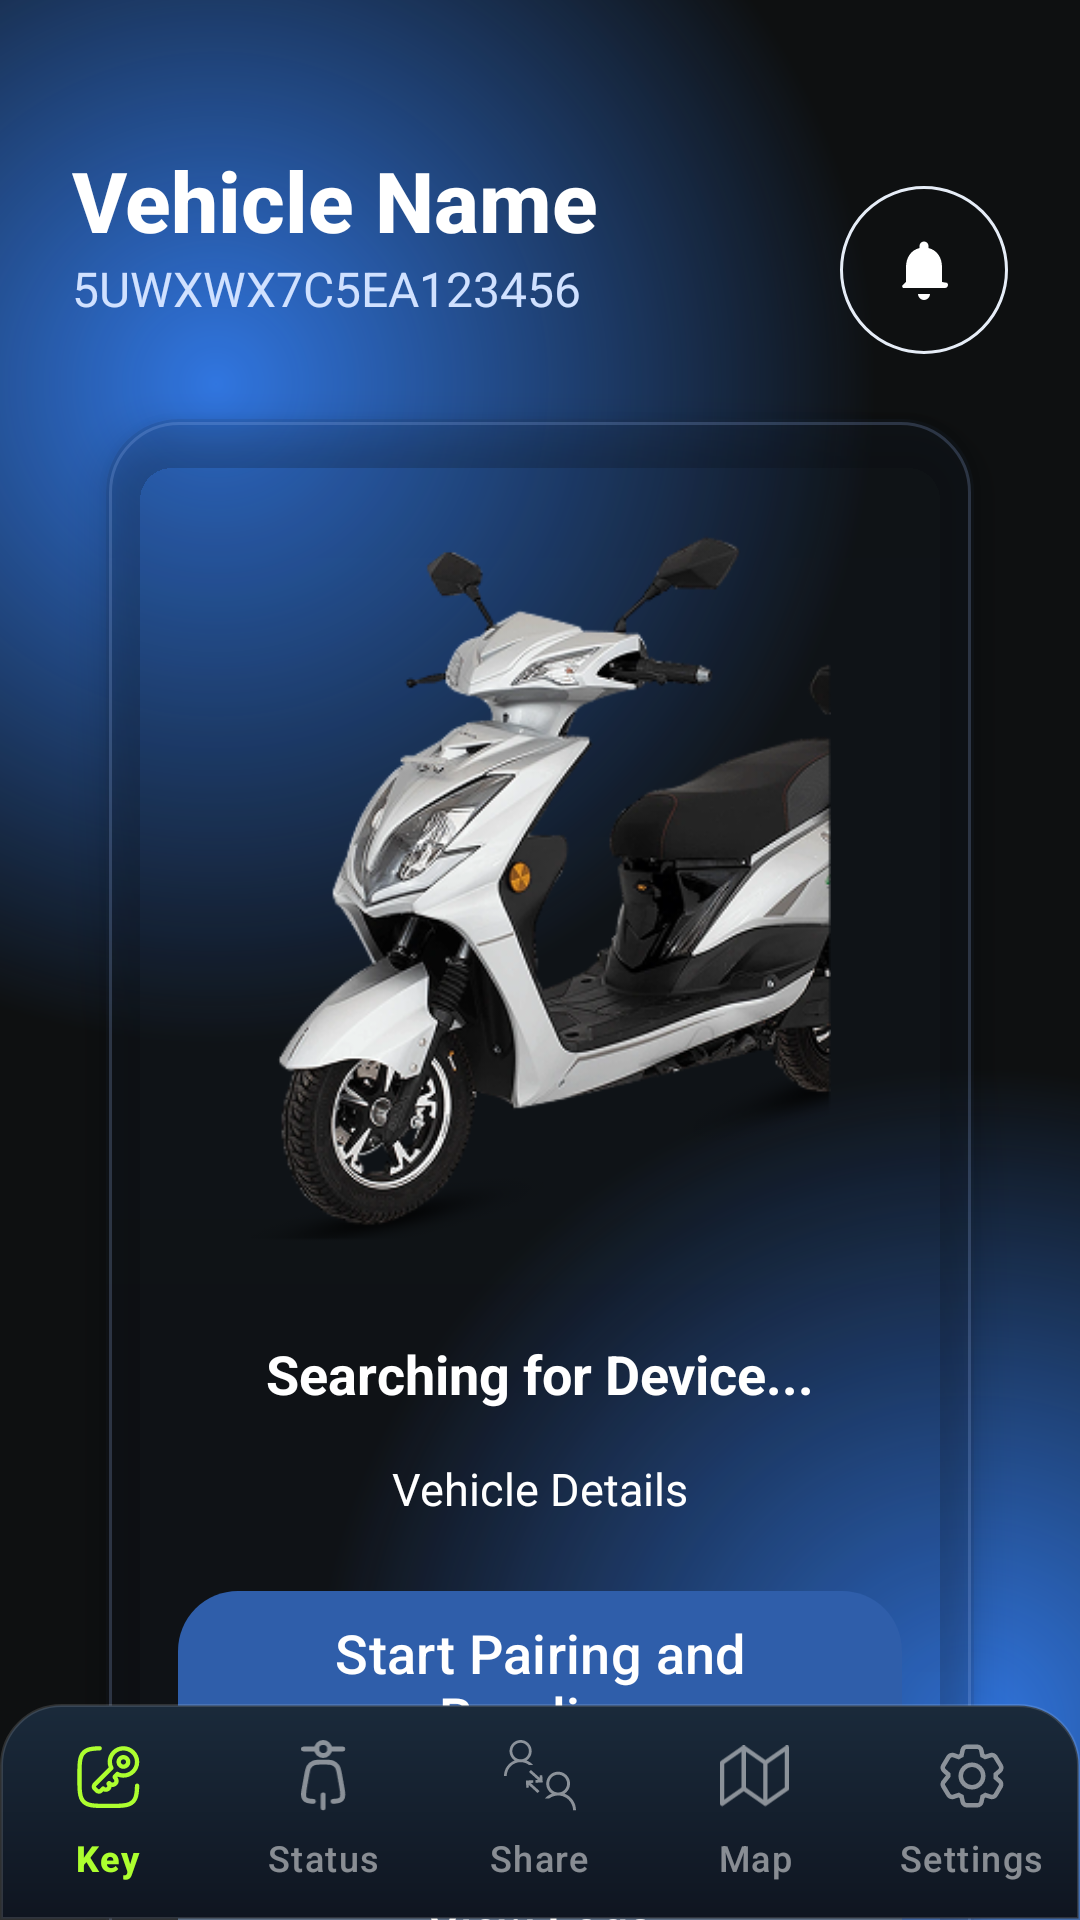

Screen size 1080 × 1920. Icon name, then its box in pixels as (x1, y1, x2, y2):
Notifications: (902, 241, 948, 300)
